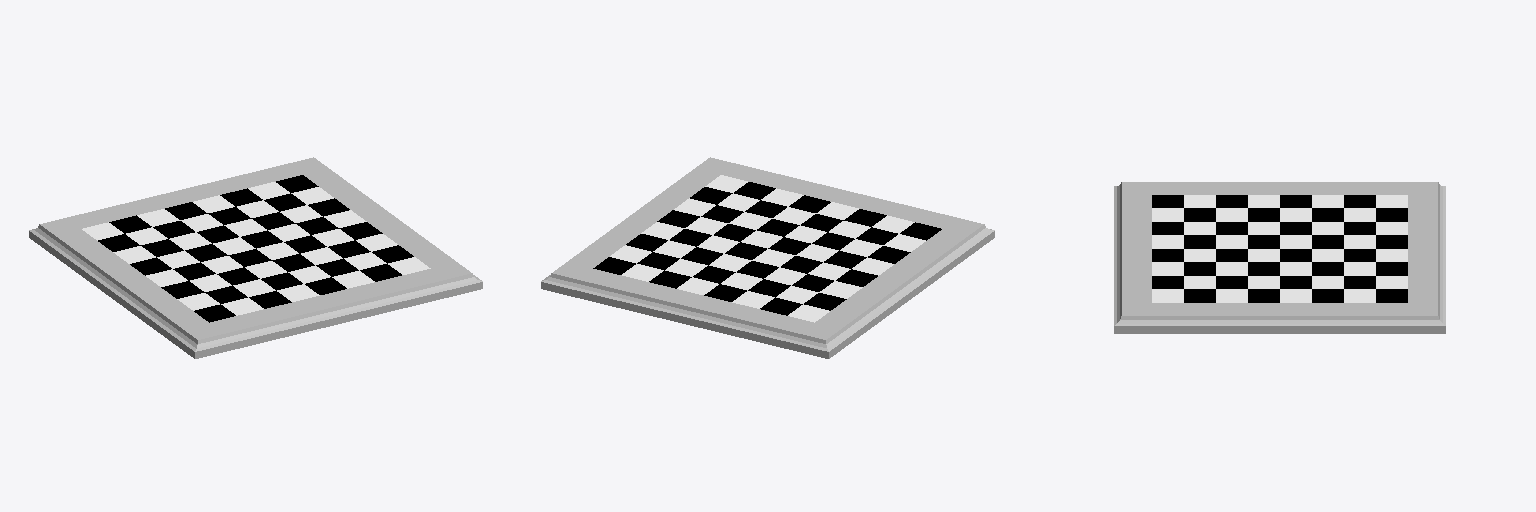
Rendered from board.obj.
The picture shows the model from 3 angles: view 1: azimuth 30°, elevation 25°; view 2: azimuth 150°, elevation 25°; view 3: azimuth 270°, elevation 25°; orthographic projection.
Parts seen in each view (by area): view 1: ChessBoard, Chessboard_Surround; view 2: ChessBoard, Chessboard_Surround; view 3: ChessBoard, Chessboard_Surround.
Part boxes in pixels (x1,y1,x2,y2): ChessBoard: (82, 175, 430, 322); Chessboard_Surround: (29, 157, 482, 358); ChessBoard: (593, 175, 941, 322); Chessboard_Surround: (541, 157, 994, 358); ChessBoard: (1152, 195, 1407, 302); Chessboard_Surround: (1114, 182, 1445, 333).
Bounding box in the file's own units: 62.4 × 3 × 62.4.